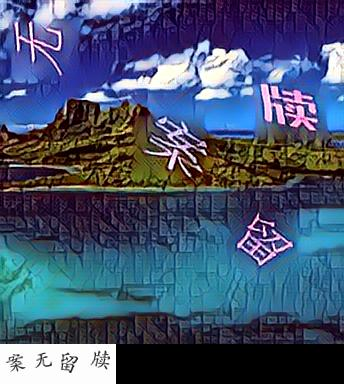character: (225, 208, 301, 272), (140, 113, 210, 179), (10, 19, 69, 79), (258, 80, 321, 134)
